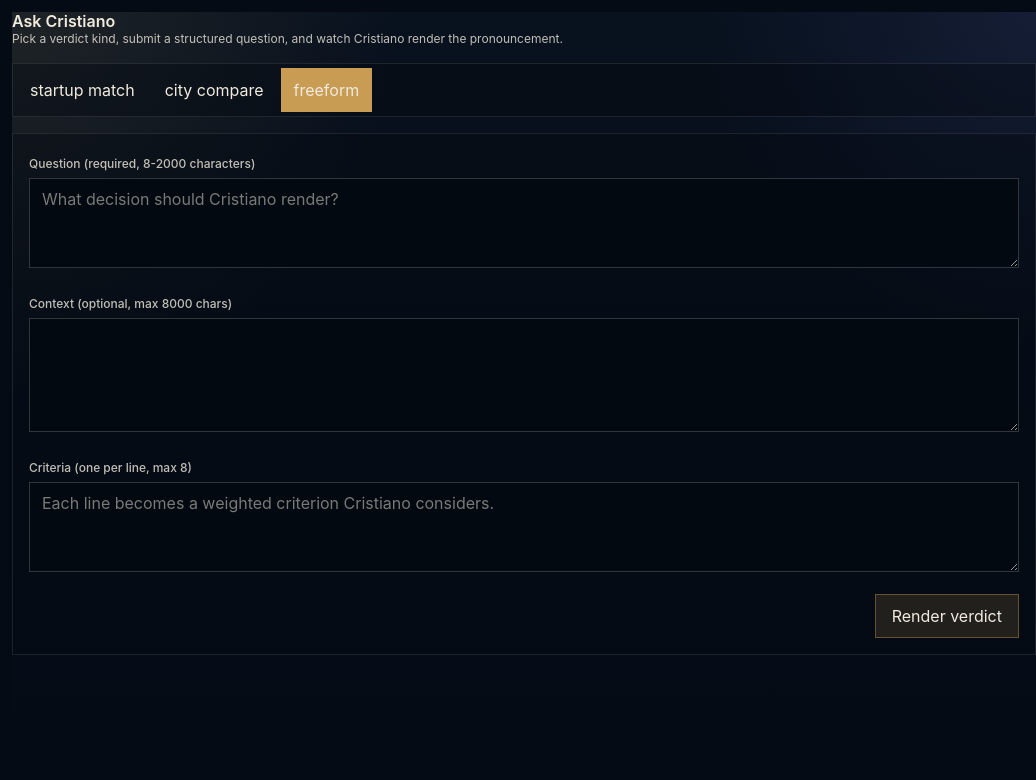
it: AskCristiano — mount + kind picker › switches form when a different kind is clicked
This screenshot has width=1036, height=780.
Click the tab with test id "ask-cristiano-kind-city_compare" at (214, 90), box [152,68,276,112]
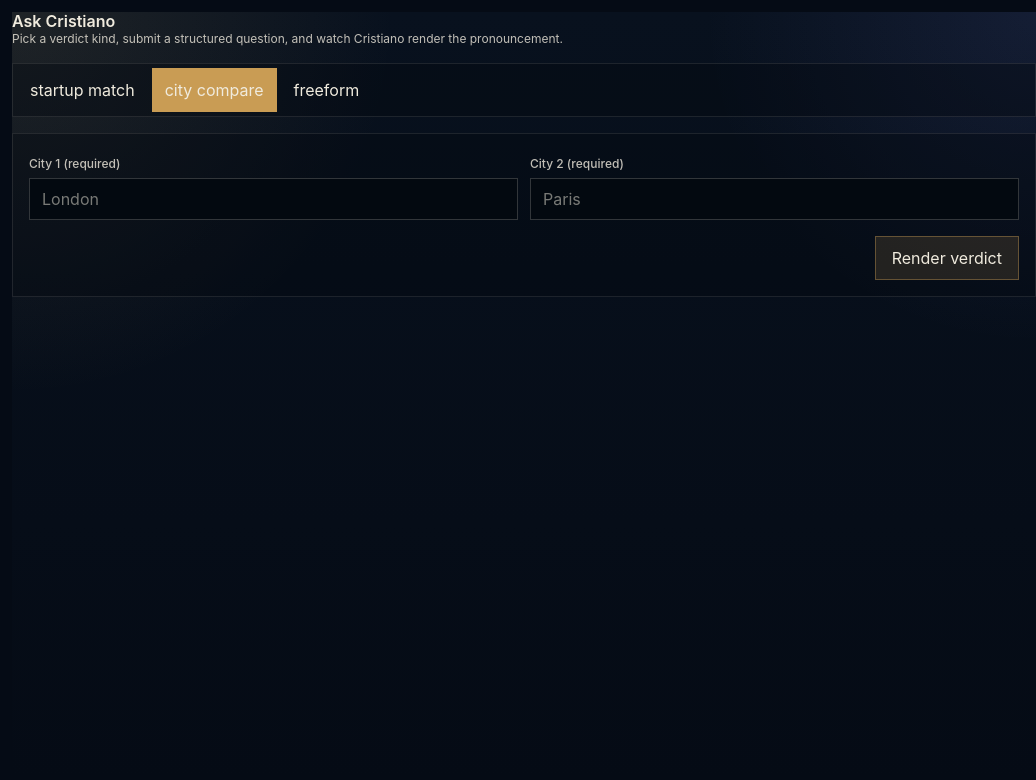
Expected: the field with test id "ask-cristiano-city1" is shown, [29,178,518,220]
Expected: the field with test id "ask-cristiano-city2" is shown, [530,178,1019,220]
